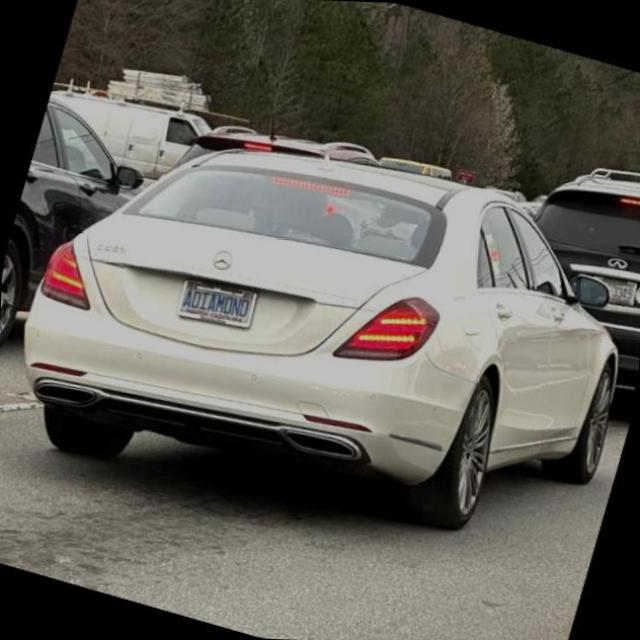LicensePlate: (174, 276, 257, 327)
